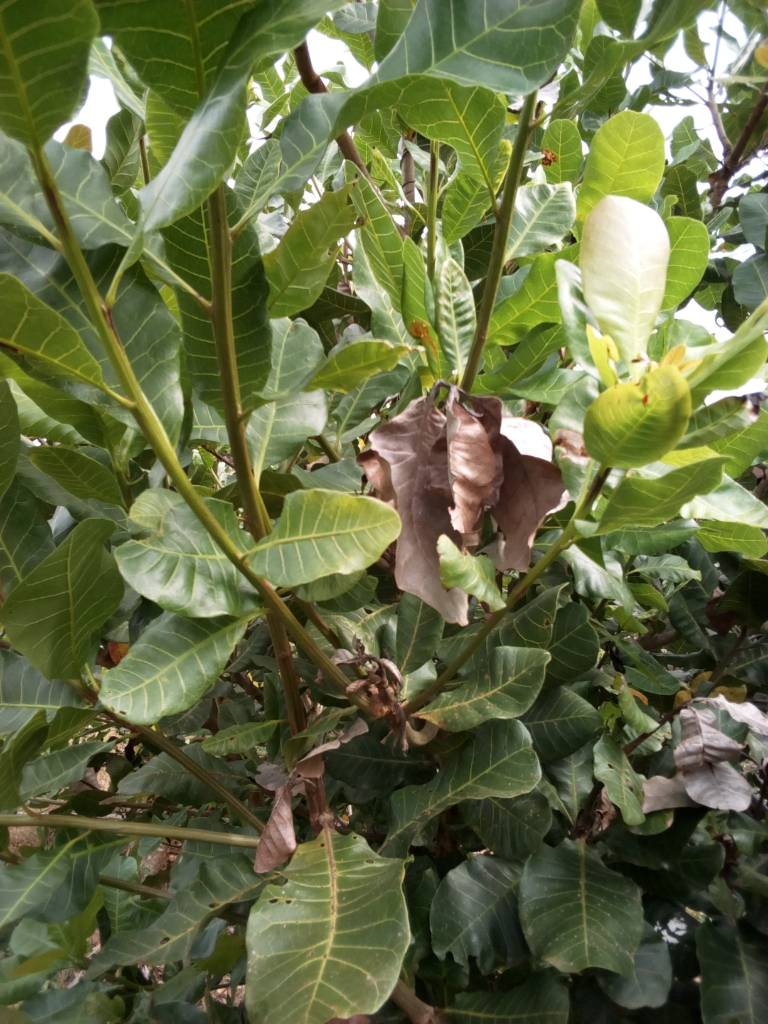Dessèchement des bourgeons: (379, 386, 555, 566), (344, 653, 424, 746)
